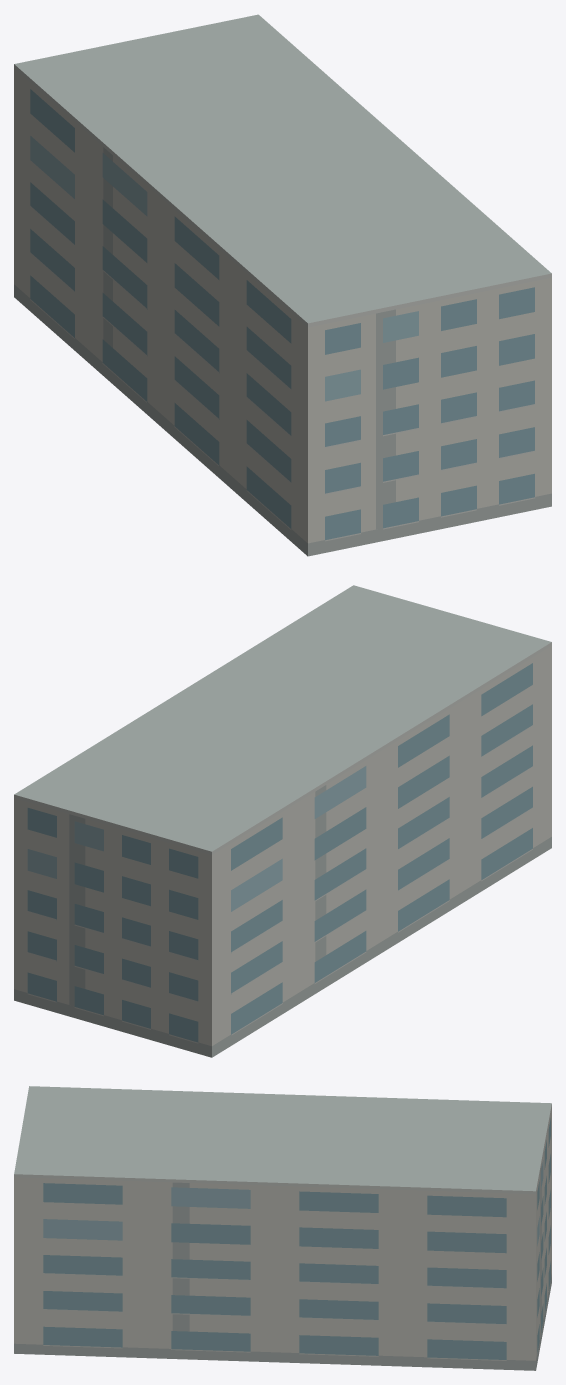
The model's file is survey-upis-32964224.glb.
3 views of the same model, one above another, from view 1: azimuth 30°, elevation 25°; view 2: azimuth 150°, elevation 25°; view 3: azimuth 270°, elevation 25° (orthographic). The views are drawn at different scales.
Parts seen in each view (by area): view 1: survey-upis-32964224.tmp; view 2: survey-upis-32964224.tmp; view 3: survey-upis-32964224.tmp.
Part boxes in pixels (x1,y1,x2,y2): survey-upis-32964224.tmp: (14, 14, 551, 556); survey-upis-32964224.tmp: (14, 585, 551, 1057); survey-upis-32964224.tmp: (14, 1086, 551, 1370).
Size of the model in its own units: 17.53 by 13.96 by 37.9.
